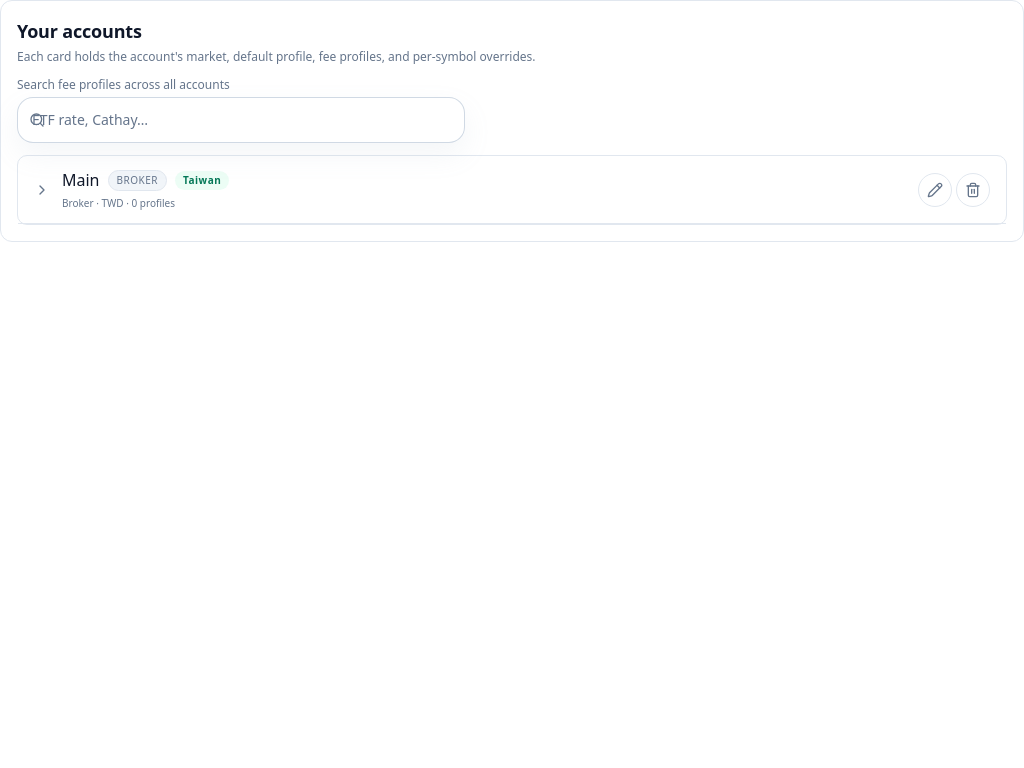
Test: AccountsListSection — ui-enhancement deletion affordances (Item 1) › modal surfaces 'last-account' warning when only one active account exists
Click the button named "Delete account" at (973, 190), box [956,172,990,206]
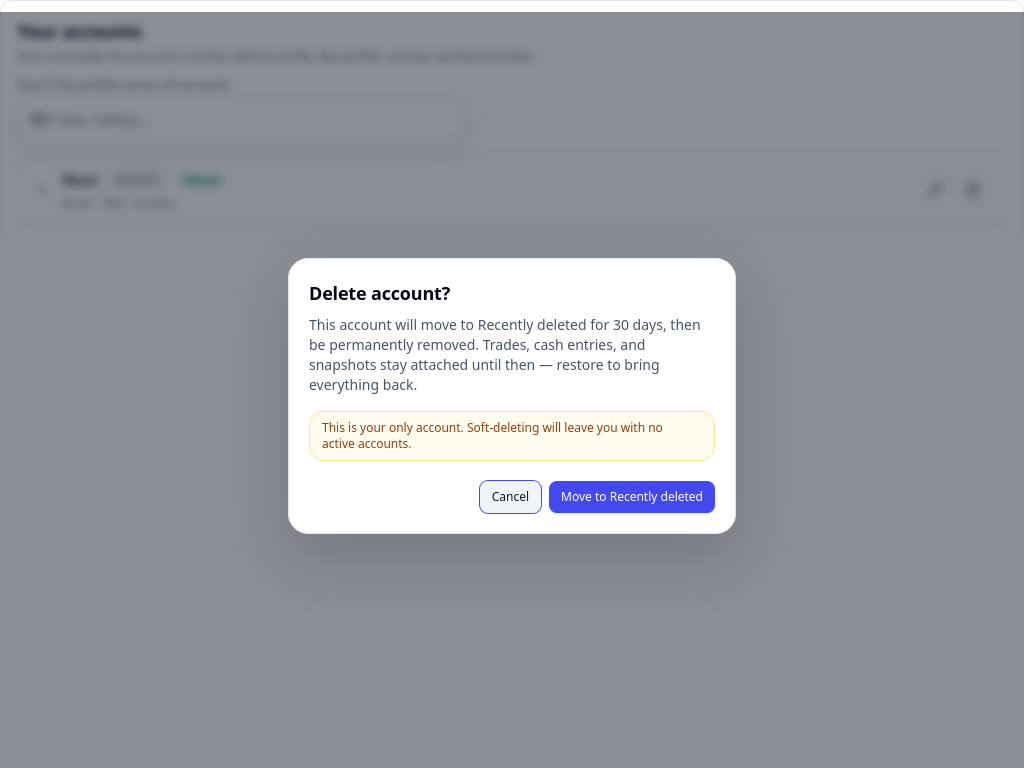
Expected: the list item with test id "account-soft-delete-warning-last-account" is shown, [322,420,702,452]
